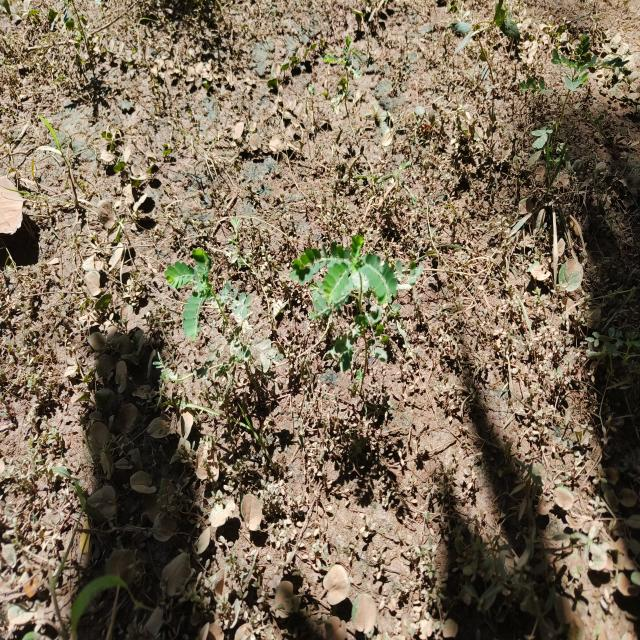weed: (277, 244, 408, 336), (166, 256, 251, 342)
